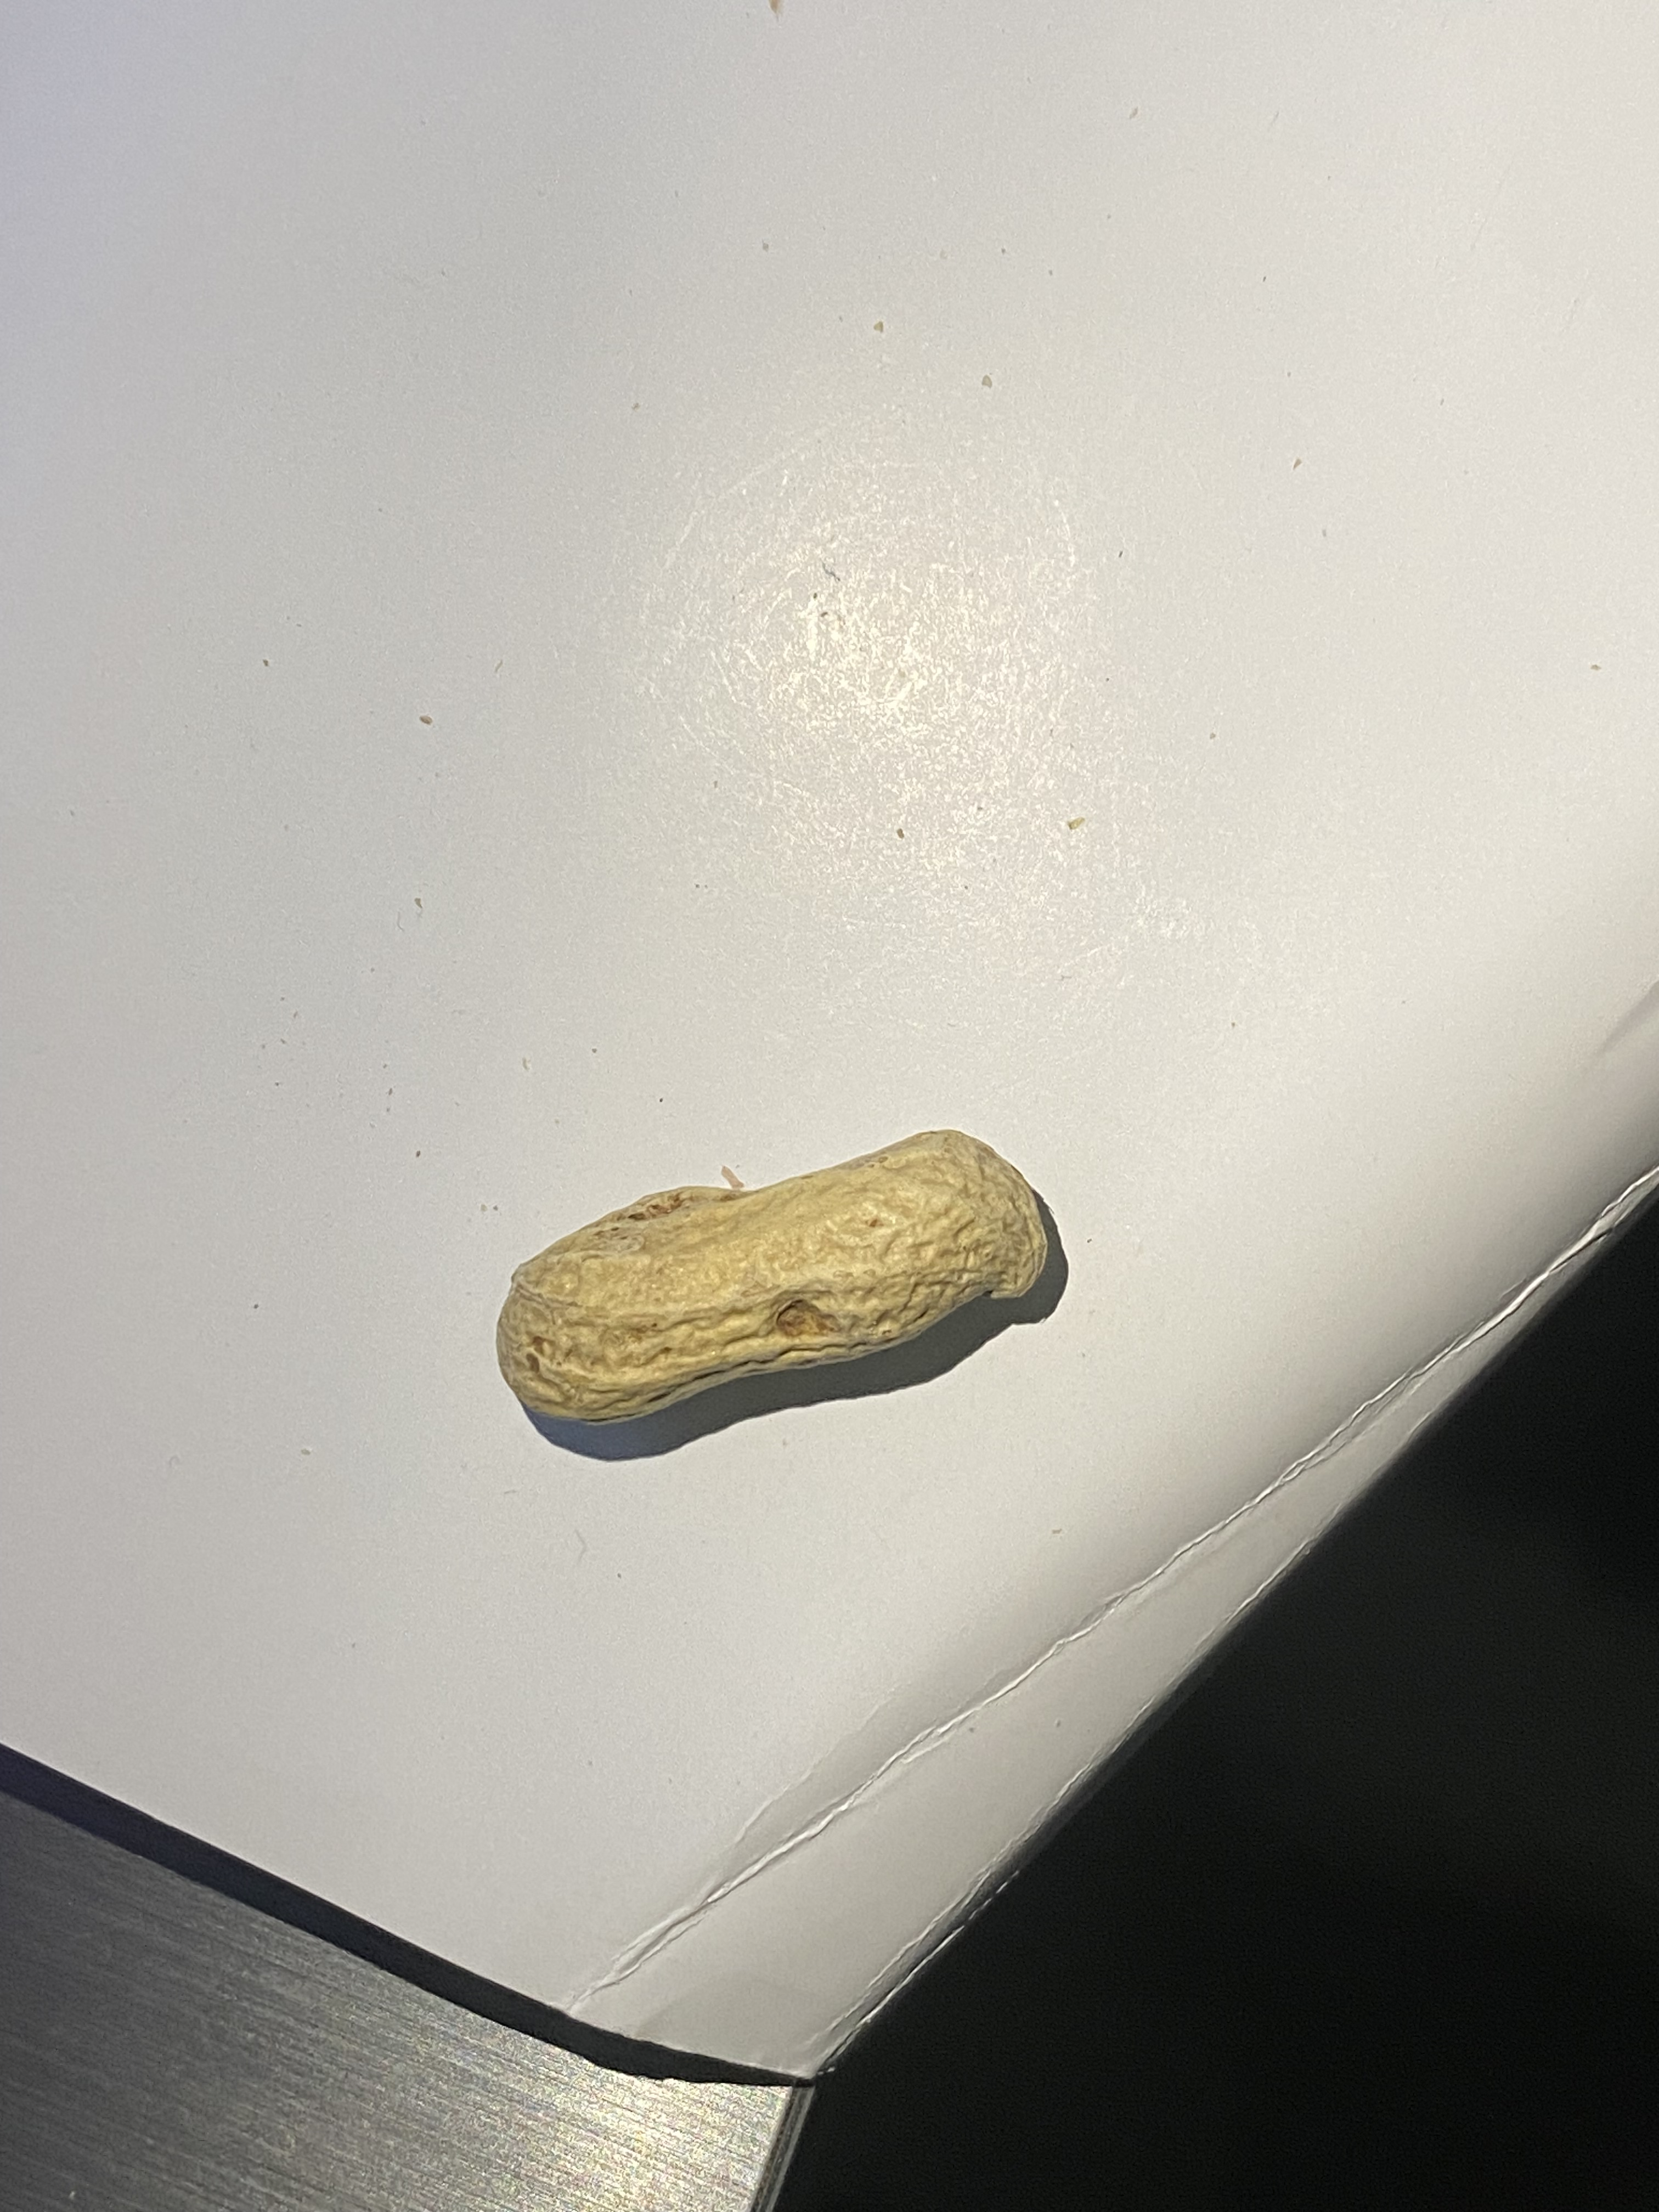kacang2: (488, 1113, 1068, 1446)
